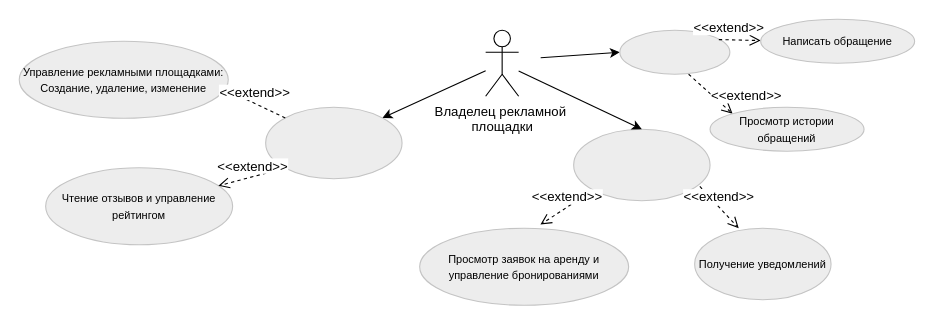
The diagram is 934 pixels wide and 325 high, and some of its shapes have lost their labels. The shapes that lost their labels are listed below. From the top down, each one's centre as x and y in pixels, then its label:
At pixel 674 51: "Техподдержка".
At pixel 333 142: "Каталог".
At pixel 641 164: "Личный кабинет".
